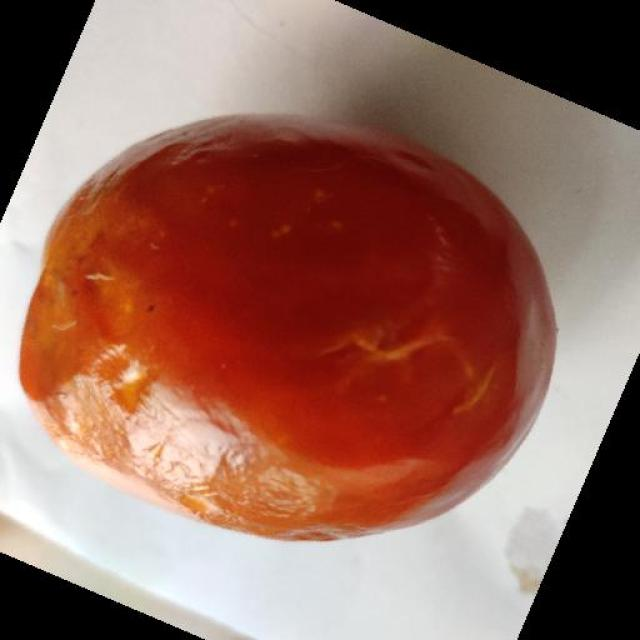Stale_tomato: (18, 147, 590, 559)
